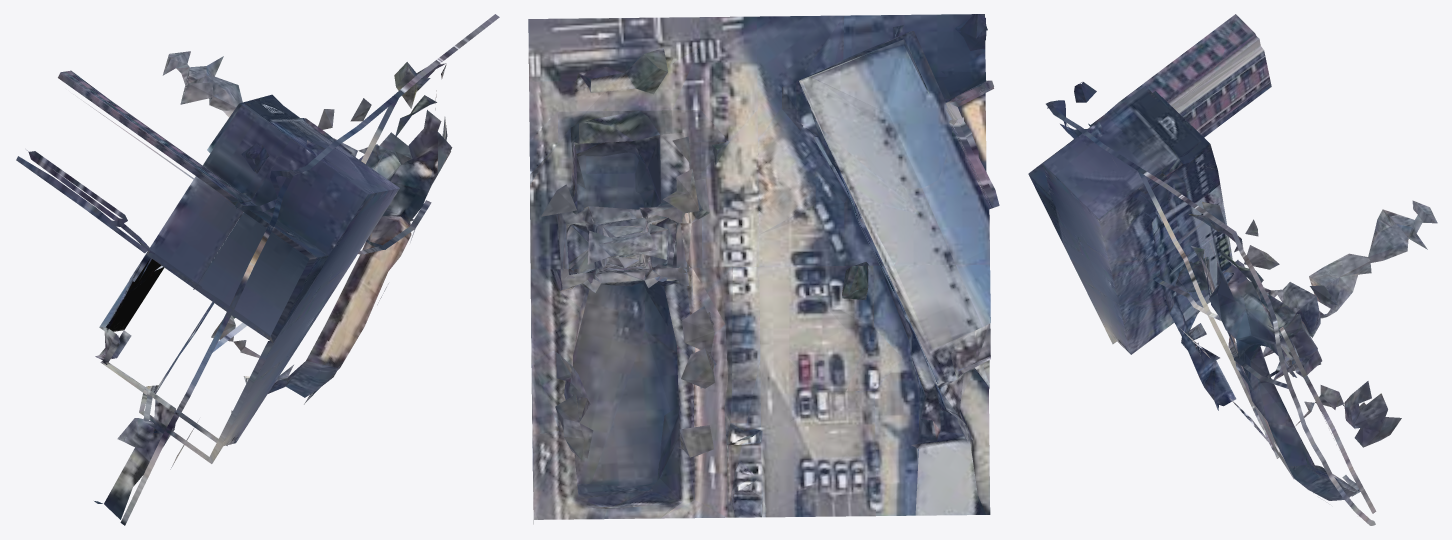
3 renders of one model, left to right at view 1: azimuth 30°, elevation 25°; view 2: azimuth 150°, elevation 25°; view 3: azimuth 270°, elevation 25°, orthographic. The views are drawn at different scales.
Size of the model in its own units: 86.7 by 79.76 by 79.24.
Materials: 2 (2 with a texture image).
